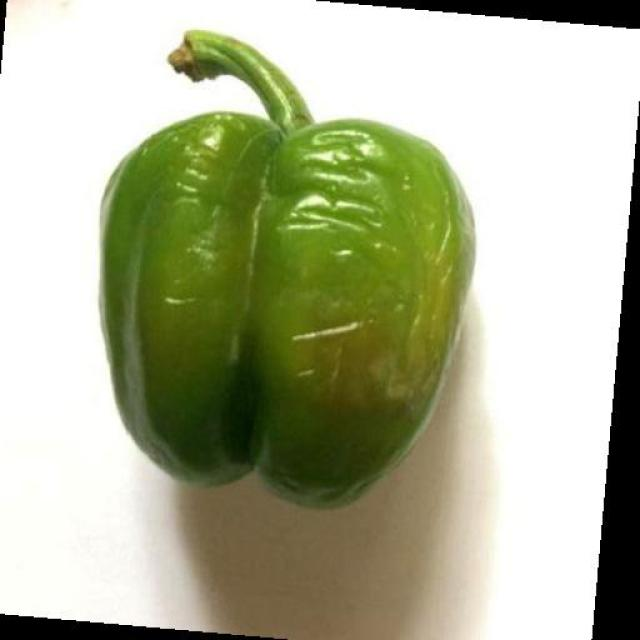Stale_Capsicum: (59, 67, 468, 527)
